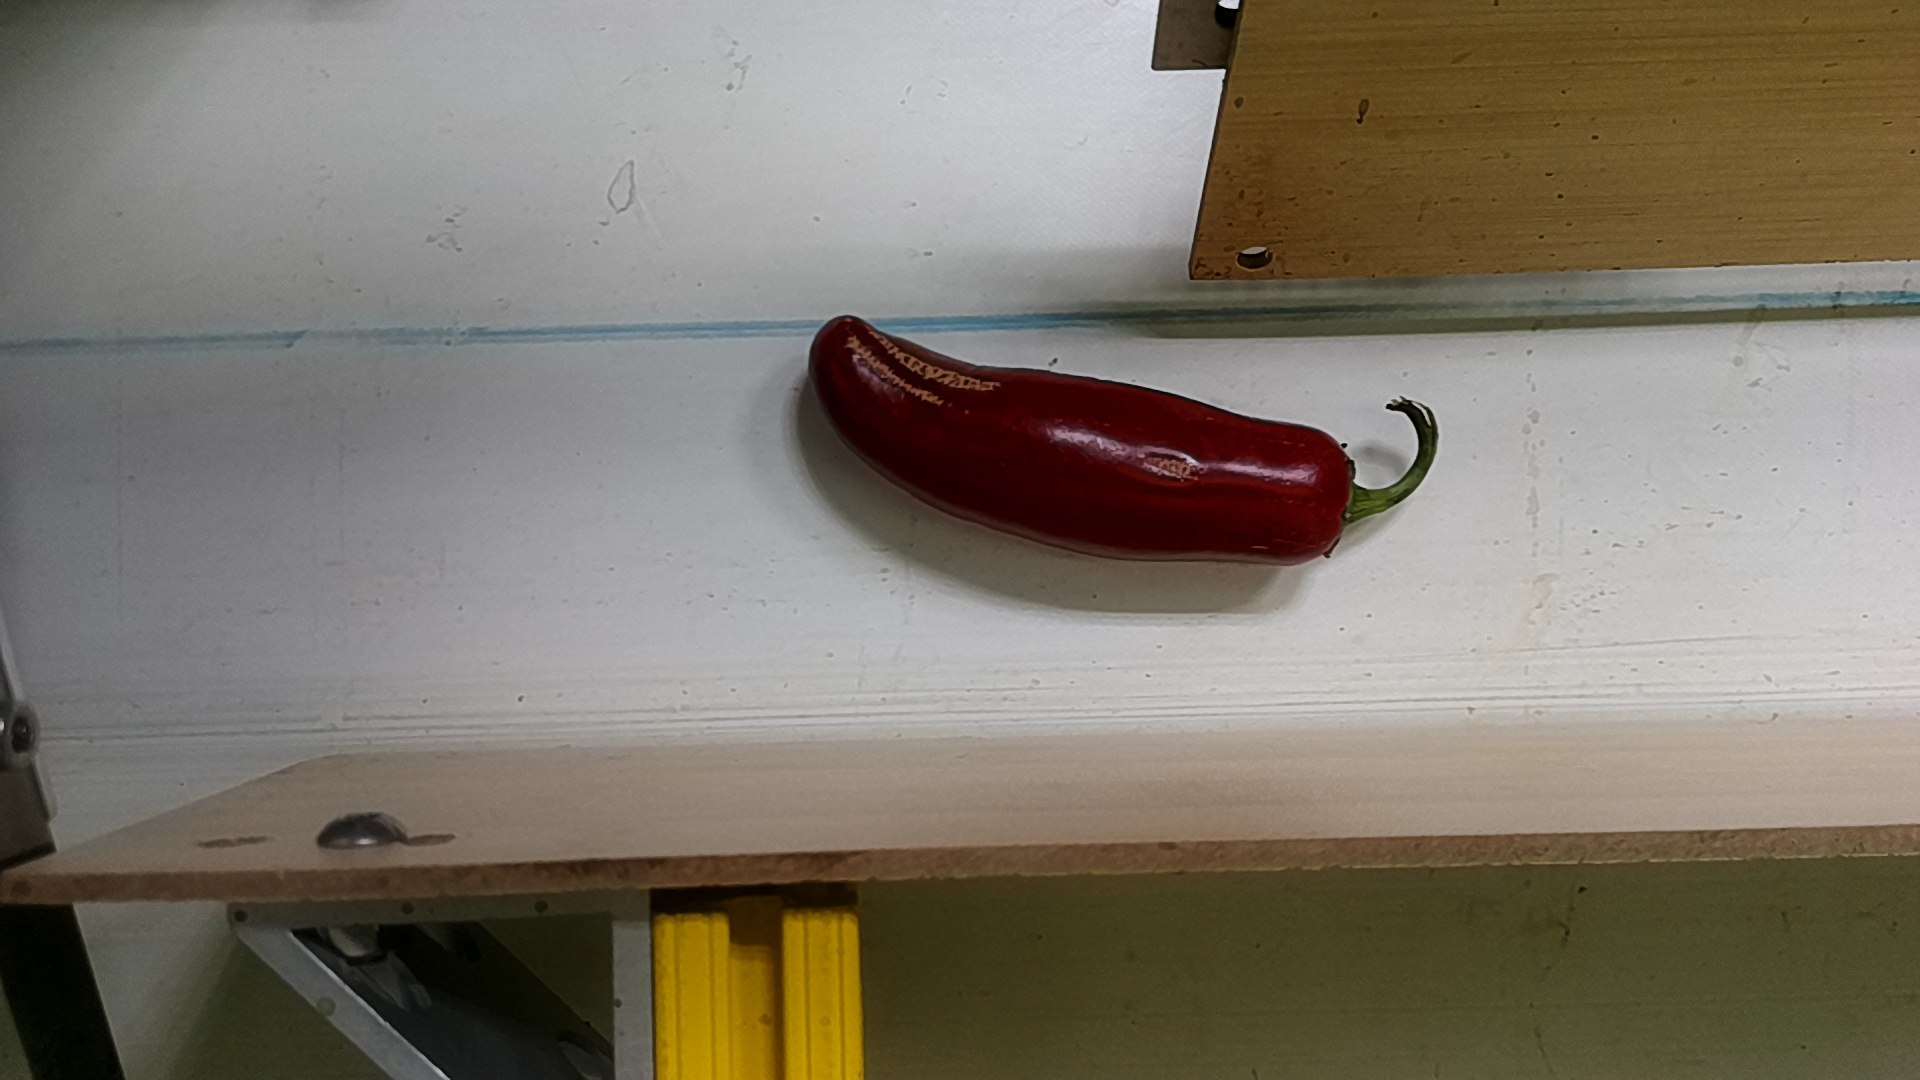Cut Point: (1300, 419, 1378, 568)
